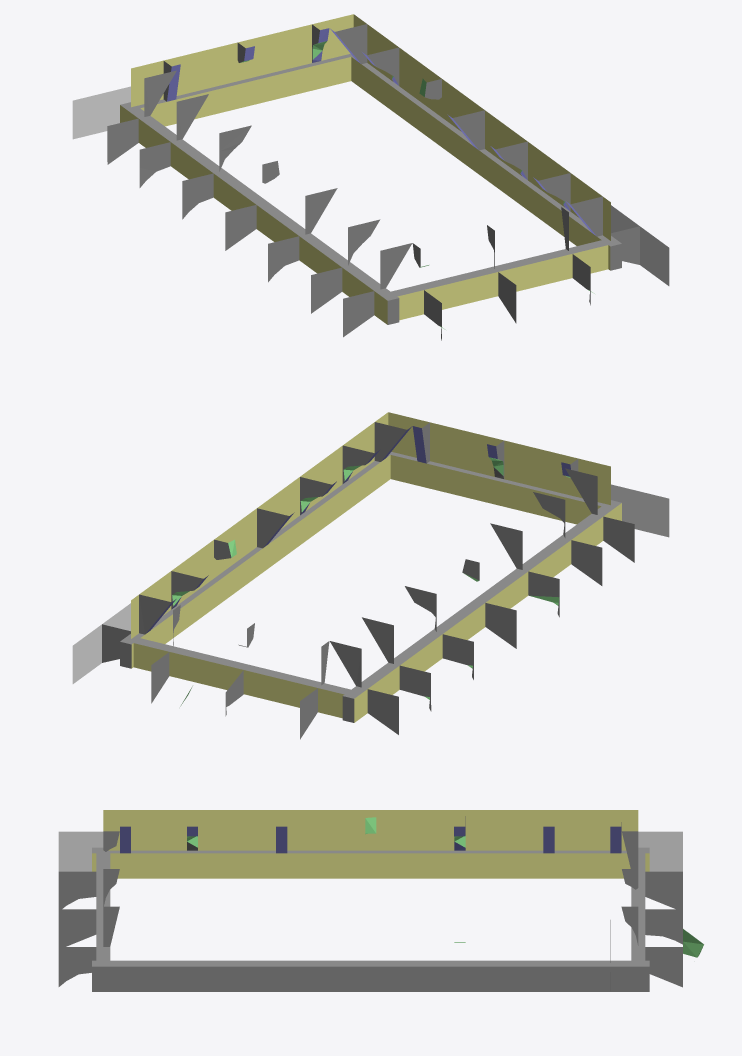
File: SSQ_BRoom01_Top.gltf
3 views of the same model, one above another, from view 1: azimuth 30°, elevation 25°; view 2: azimuth 150°, elevation 25°; view 3: azimuth 270°, elevation 25° (orthographic). The views are drawn at different scales.
Visible parts, largest first — view 1: SSQ_BRoom01_Top; view 2: SSQ_BRoom01_Top; view 3: SSQ_BRoom01_Top.
Part boxes in pixels (left/top/right/bottom): SSQ_BRoom01_Top: left=72, top=14, right=669, bottom=340; SSQ_BRoom01_Top: left=72, top=412, right=669, bottom=739; SSQ_BRoom01_Top: left=58, top=810, right=703, bottom=991.
Bounding box in the file's own units: 12.81 × 2.56 × 20.49.
